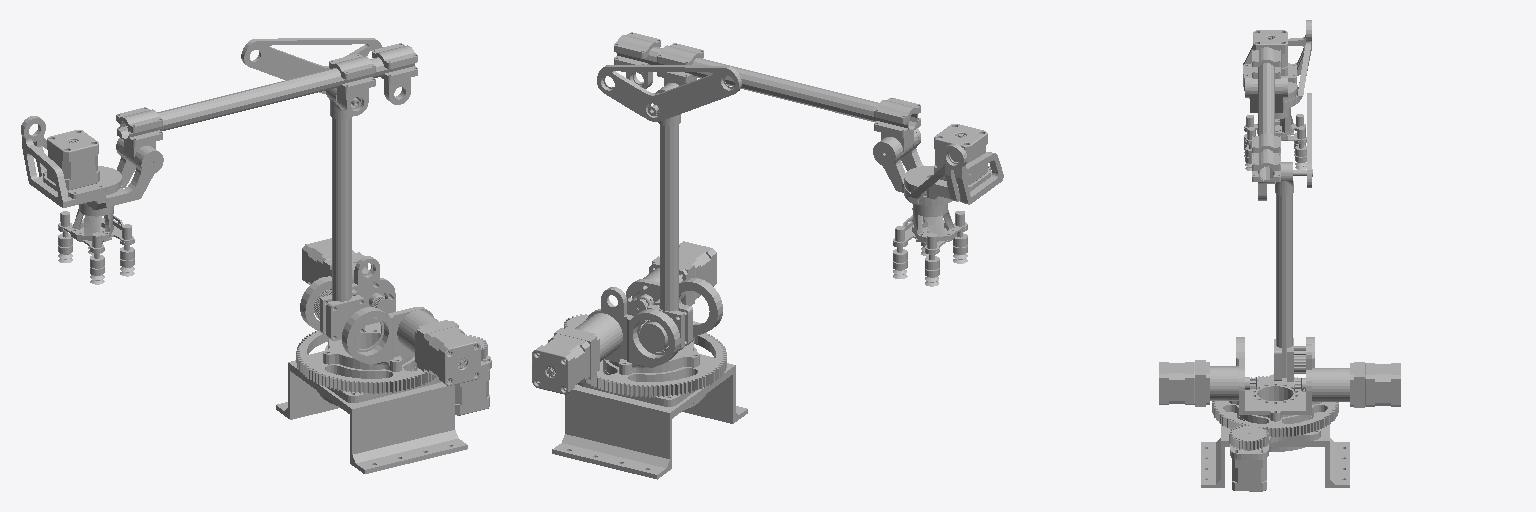
The robot description file, URDF, robot "assembly_hamster":
<?xml version="1.0" encoding="utf-8"?>
<!-- This URDF was automatically created by SolidWorks to URDF Exporter! Originally created by [author] ([email redacted]) 
     Commit Version: 1.6.0-1-g15f4949  Build Version: 1.6.7594.29634
     For more information, please see http://wiki.ros.org/sw_urdf_exporter -->
<robot
  name="assembly_hamster">
  <link
    name="base_link">
    <visual>
      <origin
        xyz="0 0 0"
        rpy="0 0 0" />
      <geometry>
        <mesh
          filename="package://assembly_hamster/meshes/base_link.STL" />
      </geometry>
      <material
        name="">
        <color
          rgba="0.75294 0.75294 0.75294 1" />
      </material>
    </visual>
    <collision>
      <origin
        xyz="0 0 0"
        rpy="0 0 0" />
      <geometry>
        <mesh
          filename="package://assembly_hamster/meshes/base_link.STL" />
      </geometry>
    </collision>
  </link>

  <link
    name="1_Link">
    <inertial>
      <origin
        xyz="0.01351 0.037179 -0.003383"
        rpy="0 0 0" />
      <mass
        value="2.6545" />
      <inertia
        ixx="0.0023682"
        ixy="8.0753E-05"
        ixz="1.7978E-05"
        iyy="0.0032175"
        iyz="4.8925E-05"
        izz="0.0021073" />
    </inertial>
    <visual>
      <origin
        xyz="0 0 0"
        rpy="0 0 0" />
      <geometry>
        <mesh
          filename="package://assembly_hamster/meshes/1_Link.STL" />
      </geometry>
      <material
        name="">
        <color
          rgba="0.75294 0.75294 0.75294 1" />
      </material>
    </visual>
    <collision>
      <origin
        xyz="0 0 0"
        rpy="0 0 0" />
      <geometry>
        <mesh
          filename="package://assembly_hamster/meshes/1_Link.STL" />
      </geometry>
    </collision>
  </link>

  <joint
    name="joint_1"
    type="continuous">
    <origin
      xyz="0 0 0.0202"
      rpy="1.5708 0 0" />
    <parent
      link="base_link" />
    <child
      link="1_Link" />
    <axis
      xyz="0 1 0" />
  </joint>

  <link
    name="2_1_Link">
    <inertial>
      <origin
        xyz="-0.079036 -0.016436 -1.1424E-05"
        rpy="0 0 0" />
      <mass
        value="0.55117" />
      <inertia
        ixx="7.293E-05"
        ixy="4.1886E-08"
        ixz="1.1981E-07"
        iyy="0.00070853"
        iyz="4.1934E-08"
        izz="0.00068782" />
    </inertial>
    <visual>
      <origin
        xyz="0 0 0"
        rpy="0 0 0" />
      <geometry>
        <mesh
          filename="package://assembly_hamster/meshes/2_1_Link.STL" />
      </geometry>
      <material
        name="">
        <color
          rgba="0.75294 0.75294 0.75294 1" />
      </material>
    </visual>
    <collision>
      <origin
        xyz="0 0 0"
        rpy="0 0 0" />
      <geometry>
        <mesh
          filename="package://assembly_hamster/meshes/2_1_Link.STL" />
      </geometry>
    </collision>
  </link>

  <joint
    name="joint_2_1"
    type="continuous">
    <origin
      xyz="-0.0285 0.055 0"
      rpy="1.5708 0 -1.5708" />
    <parent
      link="1_Link" />
    <child
      link="2_1_Link" />
    <axis
      xyz="0 1 0" />
  </joint>

  <link
    name="3_Link">
    <inertial>
      <origin
        xyz="-0.0704447246010788 0.343494150571024 -0.03888635607788"
        rpy="0 0 0" />
      <mass
        value="0.240854595463992" />
      <inertia
        ixx="5.70384323950151E-05"
        ixy="2.03886631821913E-05"
        ixz="-3.0839576044844E-08"
        iyy="0.000450948009144471"
        iyz="4.17435822214057E-09"
        izz="0.000492580105984167" />
    </inertial>
    <visual>
      <origin
        xyz="0 0 0"
        rpy="0 0 0" />
      <geometry>
        <mesh
          filename="package://assembly_hamster/meshes/3_Link.STL" />
      </geometry>
      <material
        name="">
        <color
          rgba="0.752941176470588 0.752941176470588 0.752941176470588 1" />
      </material>
    </visual>
    <collision>
      <origin
        xyz="0 0 0"
        rpy="0 0 0" />
      <geometry>
        <mesh
          filename="package://assembly_hamster/meshes/3_Link.STL" />
      </geometry>
    </collision>
  </link>

  <joint
    name="joint_3_base"
    type="fixed">
    <origin
      xyz="0.077076 0 0.024656"
      rpy="-1.5708 1.3472 0" />
    <parent
      link="2_1_Link" />
    <child
      link="3_Link" />
    <axis
      xyz="1 0 0" />
  </joint>

  <link
    name="3_1_Link">
    <inertial>
      <origin
        xyz="0.0225113352518309 0.0816101189194423 0.0111429600420675"
        rpy="0 0 0" />
      <mass
        value="0.706946980905885" />
      <inertia
        ixx="0.00157450700015675"
        ixy="3.60972844158452E-11"
        ixz="1.93929692550891E-06"
        iyy="0.000107129521994653"
        iyz="-7.73897691995558E-12"
        izz="0.00157126380530245" />
    </inertial>
    <visual>
      <origin
        xyz="0 0 0"
        rpy="0 0 0" />
      <geometry>
        <mesh
          filename="package://assembly_hamster/meshes/3_1_Link.STL" />
      </geometry>
      <material
        name="">
        <color
          rgba="0.752941176470588 0.752941176470588 0.752941176470588 1" />
      </material>
    </visual>
    <collision>
      <origin
        xyz="0 0 0"
        rpy="0 0 0" />
      <geometry>
        <mesh
          filename="package://assembly_hamster/meshes/3_1_Link.STL" />
      </geometry>
    </collision>
  </link>

  <joint
    name="joint_3_1"
    type="continuous">
    <origin
      xyz="-0.048498 0.3244 0"
      rpy="0 0 1.8008" />
    <parent
      link="3_Link" />
    <child
      link="3_1_Link" />
    <axis
      xyz="0 0 1" />
  </joint>

  <link
    name="last_Link">
    <inertial>
      <origin
        xyz="0.00458290320651195 0.00403833478304899 -0.0619326448877698"
        rpy="0 0 0" />
      <mass
        value="1.25124090194283" />
      <inertia
        ixx="0.000910187410735932"
        ixy="-8.26464406621072E-05"
        ixz="-0.000139433164917929"
        iyy="0.00114548708038895"
        iyz="-8.56917911613583E-05"
        izz="0.000580086863956969" />
    </inertial>
    <visual>
      <origin
        xyz="0 0 0"
        rpy="0 0 0" />
      <geometry>
        <mesh
          filename="package://assembly_hamster/meshes/last_Link.STL" />
      </geometry>
      <material
        name="">
        <color
          rgba="0.752941176470588 0.752941176470588 0.752941176470588 1" />
      </material>
    </visual>
    <collision>
      <origin
        xyz="0 0 0"
        rpy="0 0 0" />
      <geometry>
        <mesh
          filename="package://assembly_hamster/meshes/last_Link.STL" />
      </geometry>
    </collision>
  </link>

  <joint
    name="joint_last"
    type="continuous">
    <origin
      xyz="0 0.25 -0.0005"
      rpy="3.14 -1.57 -1.5708" />
    <parent
      link="3_1_Link" />
    <child
      link="last_Link" />
    <axis
      xyz="1 0 0" />
       <mimic joint="joint_3_1"  multiplier="-1" offset="0" />
       
  </joint>

  <link
    name="end_Link">
    <inertial>
      <origin
        xyz="5.86233622760363E-06 -0.000606087650654452 0.0417223441506261"
        rpy="0 0 0" />
      <mass
        value="0.442243456619388" />
      <inertia
        ixx="8.43721038666399E-05"
        ixy="2.09810431459494E-07"
        ixz="-2.31972138398739E-07"
        iyy="8.65761187754296E-05"
        iyz="2.91645480078844E-06"
        izz="7.21955526660134E-05" />
    </inertial>
    <visual>
      <origin
        xyz="0 0 0"
        rpy="0 0 0" />
      <geometry>
        <mesh
          filename="package://assembly_hamster/meshes/end_Link.STL" />
      </geometry>
      <material
        name="">
        <color
          rgba="0.752941176470588 0.752941176470588 0.752941176470588 1" />
      </material>
    </visual>
    <collision>
      <origin
        xyz="0 0 0"
        rpy="0 0 0" />
      <geometry>
        <mesh
          filename="package://assembly_hamster/meshes/end_Link.STL" />
      </geometry>
    </collision>
  </link>

  <joint
    name="joint_end_effector"
    type="continuous">
    <origin
      xyz="0 0.032 -0.045"
      rpy="1.5708 0 3.1416" />
    <parent
      link="last_Link" />
    <child
      link="end_Link" />
    <axis
      xyz="0 0 1" />
  </joint>
 

</robot>

--- Facts derived from the render (not from the file) ---
3 views of the same robot in one strip: view 1: azimuth 30°, elevation 25°; view 2: azimuth 150°, elevation 25°; view 3: azimuth 270°, elevation 25° (orthographic).
Robot: assembly_hamster — 7 links, 6 joints (5 continuous, 1 fixed); root link base_link; default pose: every joint at zero.
Visible links, largest first — view 1: 1_Link, base_link, 3_1_Link, last_Link, 2_1_Link, end_Link, 3_Link; view 2: 1_Link, base_link, 3_1_Link, last_Link, 2_1_Link, 3_Link, end_Link; view 3: 1_Link, base_link, 2_1_Link, 3_1_Link, last_Link, end_Link, 3_Link.
Boxes of the visible links, x1,y1,x2,y2 form: 1_Link: [296, 238, 480, 393]; base_link: [276, 334, 491, 473]; 3_1_Link: [116, 43, 417, 165]; last_Link: [21, 116, 163, 209]; 2_1_Link: [314, 88, 364, 340]; end_Link: [58, 204, 134, 284]; 3_Link: [241, 38, 382, 106]; 1_Link: [532, 241, 726, 397]; base_link: [552, 314, 747, 479]; 3_1_Link: [614, 32, 920, 156]; last_Link: [873, 124, 1003, 205]; 2_1_Link: [639, 83, 692, 351]; 3_Link: [597, 65, 741, 121]; end_Link: [893, 203, 967, 286]; 1_Link: [1159, 337, 1400, 437]; base_link: [1201, 412, 1349, 491]; 2_1_Link: [1274, 162, 1305, 381]; 3_1_Link: [1252, 47, 1280, 200]; last_Link: [1243, 20, 1311, 112]; end_Link: [1244, 108, 1306, 170]; 3_Link: [1293, 93, 1312, 187].
Bounding box of the posed robot: 0.5026 × 0.294 × 0.4466 m (x, y, z).
7 mesh visuals loaded from 7 distinct referenced files (7 binary STL).